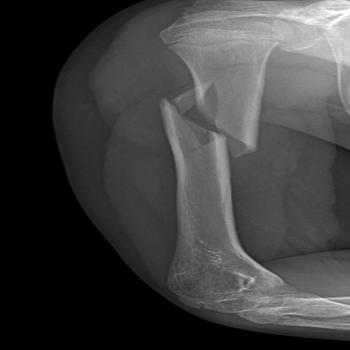Fracture: (152, 81, 263, 164)
